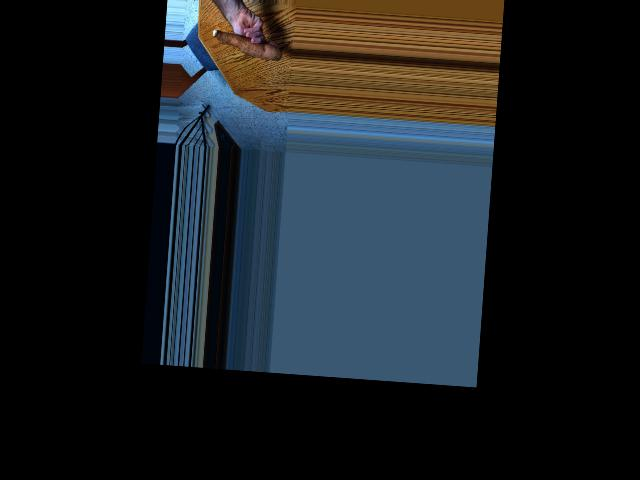sweet_potato: (208, 28, 281, 65)
